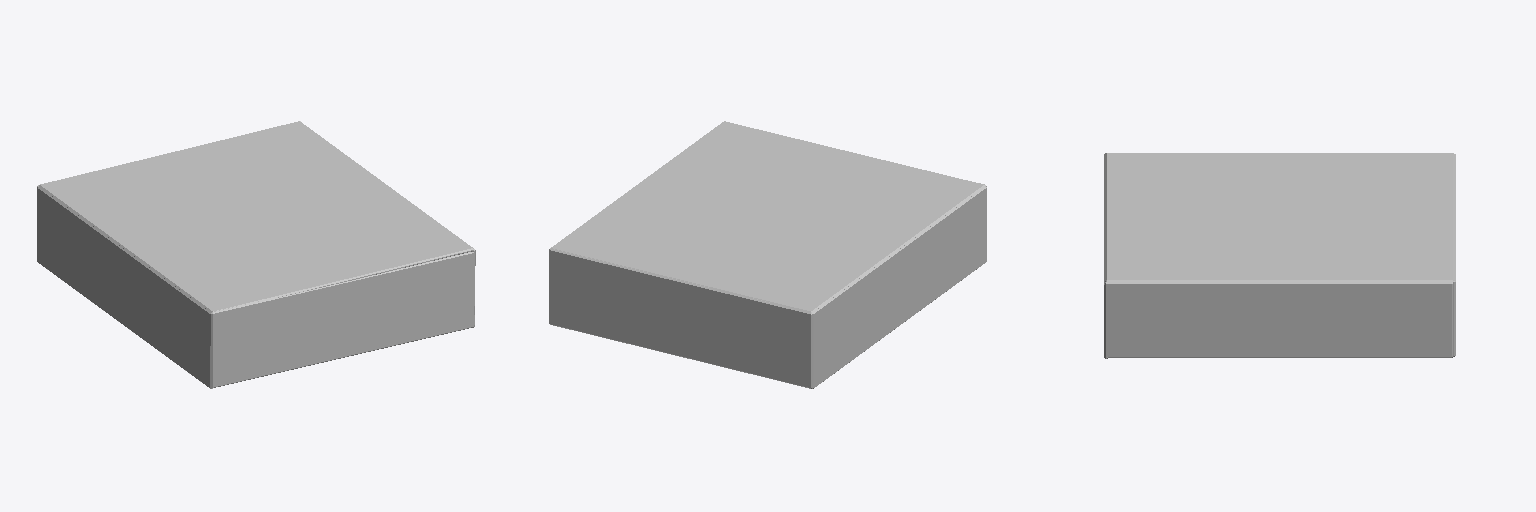
The model's file is techo exterior.obj.
The picture shows the model from 3 angles: view 1: azimuth 30°, elevation 25°; view 2: azimuth 150°, elevation 25°; view 3: azimuth 270°, elevation 25°; orthographic projection.
Visible parts, largest first — view 1: polySurface36; view 2: polySurface36; view 3: polySurface36.
Boxes of the visible parts, <box> form: polySurface36: <box>37,121,475,388</box>; polySurface36: <box>549,121,986,388</box>; polySurface36: <box>1104,153,1455,358</box>.
Bounding box in the file's own units: 188 × 53.59 × 216.